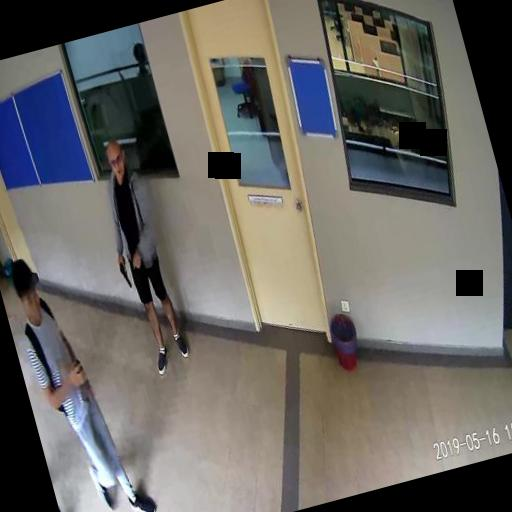Handgun: (115, 254, 131, 290)
